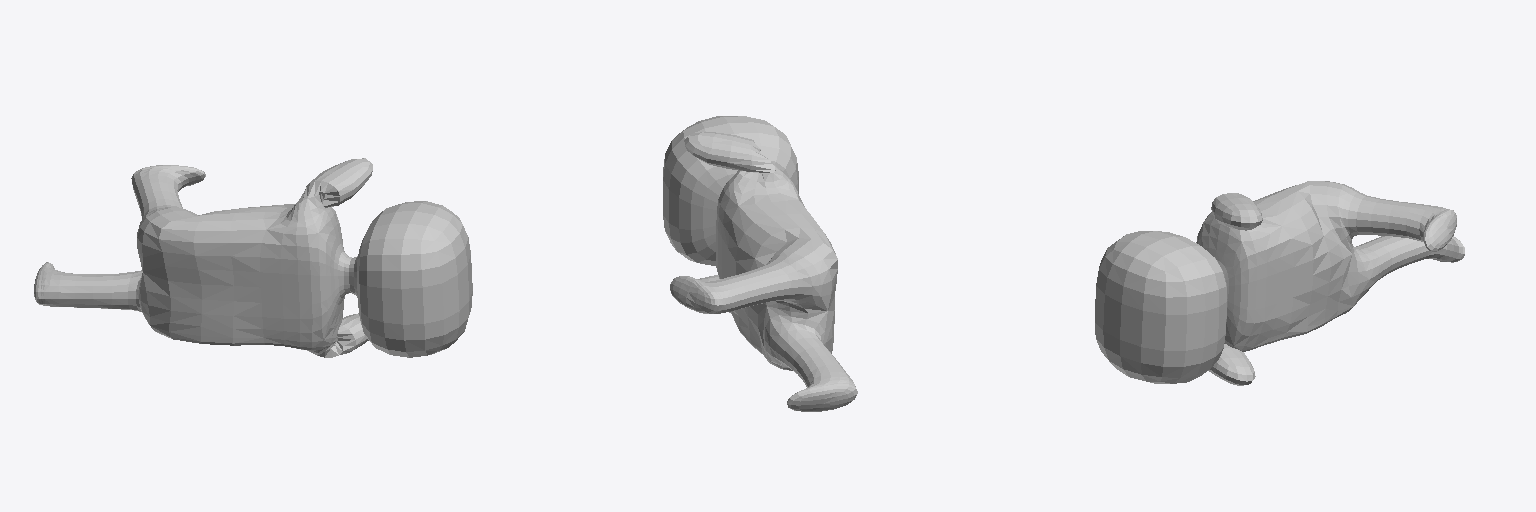
Rendered from antman_push_12.obj.
3 renders of one model, left to right at view 1: azimuth 30°, elevation 25°; view 2: azimuth 150°, elevation 25°; view 3: azimuth 270°, elevation 25°, orthographic.
Parts seen in each view (by area): view 1: Cube; view 2: Cube; view 3: Cube.
Part boxes in pixels (left/top/right/bottom): Cube: left=34, top=158, right=472, bottom=357; Cube: left=663, top=116, right=857, bottom=411; Cube: left=1095, top=181, right=1464, bottom=385.
Bounding box in the file's own units: 1.53 × 0.8339 × 1.59.